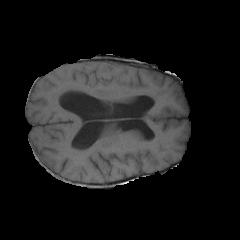glioma: (52, 78, 157, 108)
